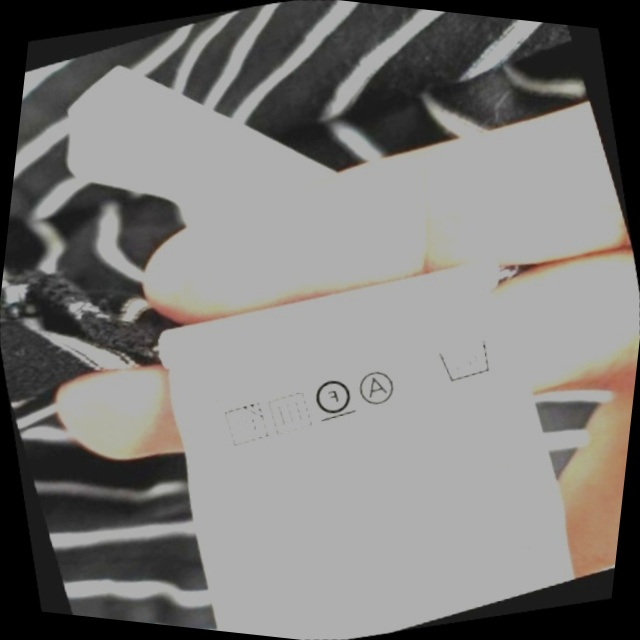95C: (427, 328, 503, 394)
bleach: (392, 345, 447, 404)
drip_dry: (257, 381, 322, 444)
drip_dry_in_shade: (211, 393, 277, 458)
dry_clean: (349, 359, 406, 415)
dry_clean_petrol_only: (302, 365, 363, 430)
